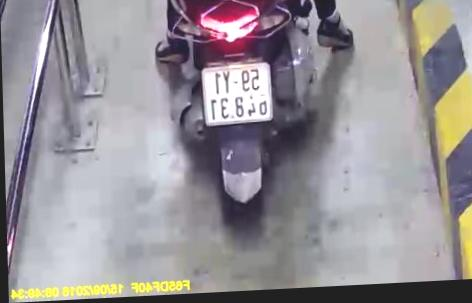License_Plate: (195, 62, 280, 129)
